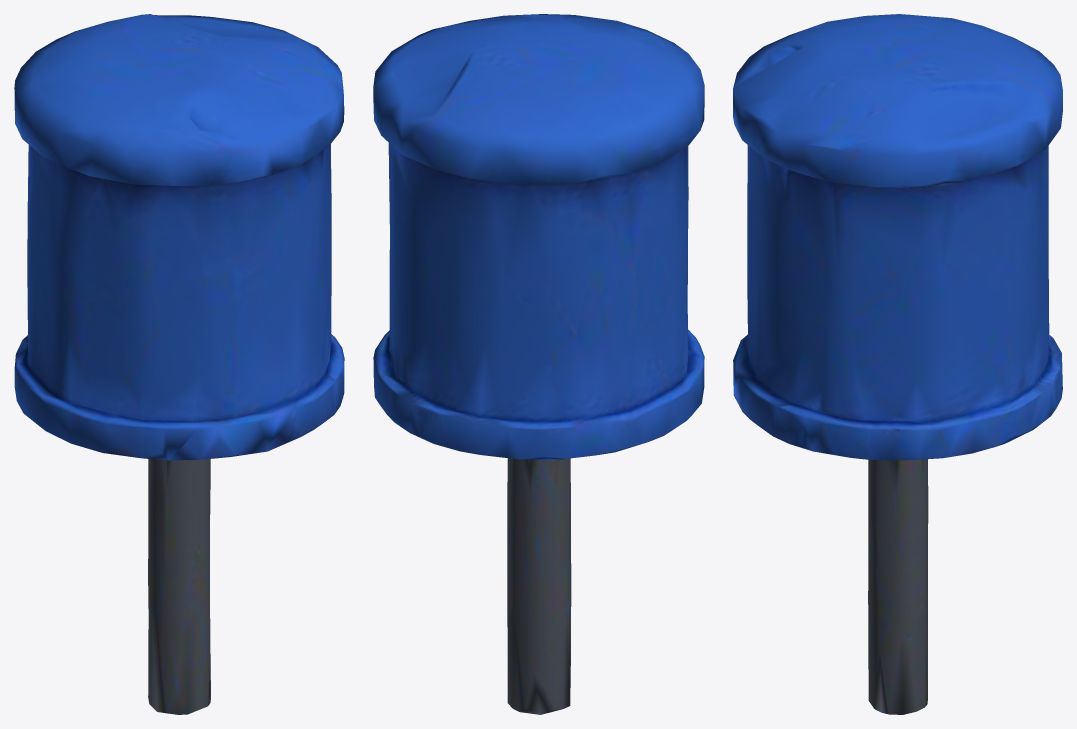
Rendered from litterbin.glb.
3 renders of one model, left to right at view 1: azimuth 30°, elevation 25°; view 2: azimuth 150°, elevation 25°; view 3: azimuth 270°, elevation 25°, orthographic.
Parts seen in each view (by area): view 1: tripo_node_0a65d3f3-3f0a-4d32-9d34-f09500e458cb; view 2: tripo_node_0a65d3f3-3f0a-4d32-9d34-f09500e458cb; view 3: tripo_node_0a65d3f3-3f0a-4d32-9d34-f09500e458cb.
Boxes of the visible parts, x1,y1,x2,y2 form: tripo_node_0a65d3f3-3f0a-4d32-9d34-f09500e458cb: (14,14,344,714); tripo_node_0a65d3f3-3f0a-4d32-9d34-f09500e458cb: (373,14,704,714); tripo_node_0a65d3f3-3f0a-4d32-9d34-f09500e458cb: (733,14,1062,714).
Bounding box in the file's own units: 0.462 × 1 × 0.4634.
Materials: 1 (1 with a texture image).
